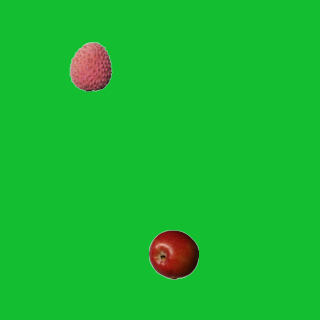Apple Braeburn: (148, 229, 198, 279)
Lychee: (65, 41, 115, 91)
